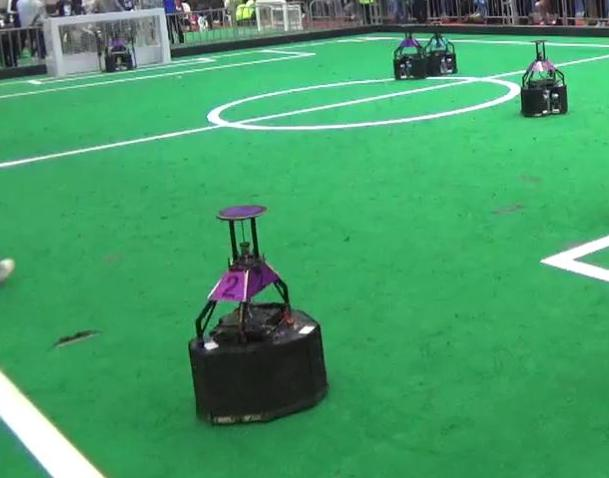robot: (179, 203, 339, 429), (517, 38, 573, 119)
